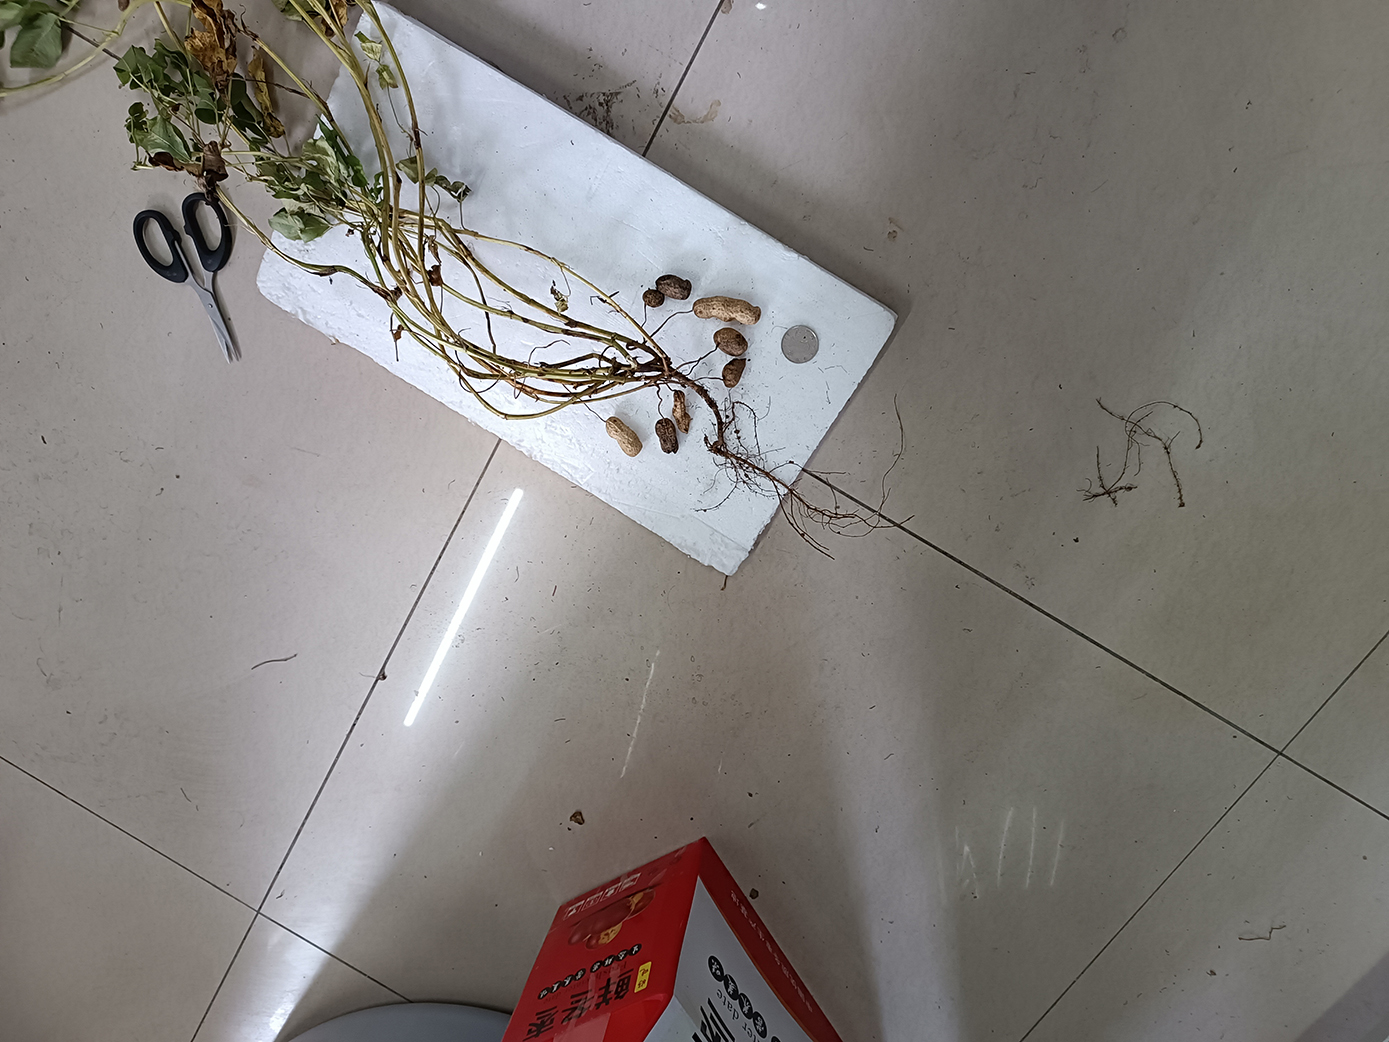h: (693, 296, 762, 325), (606, 416, 643, 456)
l: (653, 274, 693, 300), (653, 419, 682, 454), (714, 328, 749, 356), (672, 389, 693, 435), (722, 358, 749, 387), (643, 289, 664, 308)
